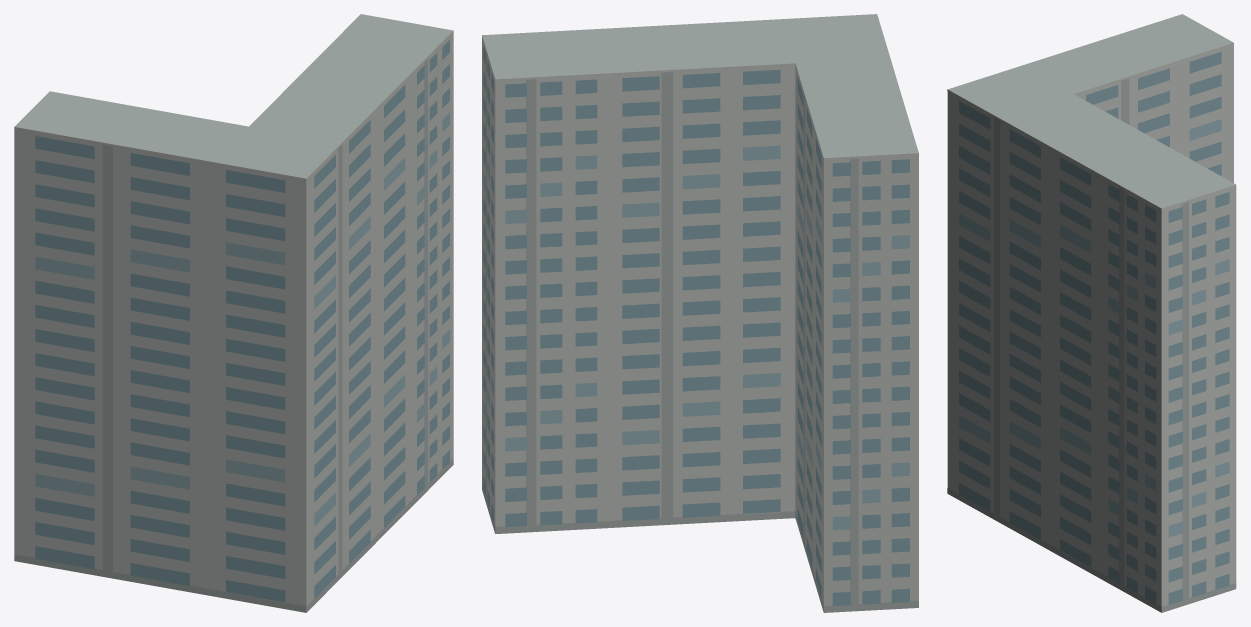
Rendered from residential-7454ad71-8c57-4ebd-ab0a-26e2b82cac74.glb.
3 renders of one model, left to right at view 1: azimuth 30°, elevation 25°; view 2: azimuth 150°, elevation 25°; view 3: azimuth 270°, elevation 25°, orthographic. The views are drawn at different scales.
Parts seen in each view (by area): view 1: residential-7454ad71-8c57-4ebd-ab0a-26e2b82cac74.tmp; view 2: residential-7454ad71-8c57-4ebd-ab0a-26e2b82cac74.tmp; view 3: residential-7454ad71-8c57-4ebd-ab0a-26e2b82cac74.tmp.
Boxes of the visible parts, <box> form: residential-7454ad71-8c57-4ebd-ab0a-26e2b82cac74.tmp: <box>14,14,453,612</box>; residential-7454ad71-8c57-4ebd-ab0a-26e2b82cac74.tmp: <box>482,14,918,612</box>; residential-7454ad71-8c57-4ebd-ab0a-26e2b82cac74.tmp: <box>947,14,1236,612</box>.
Bounding box in the file's own units: 53.68 × 52 × 33.68.
